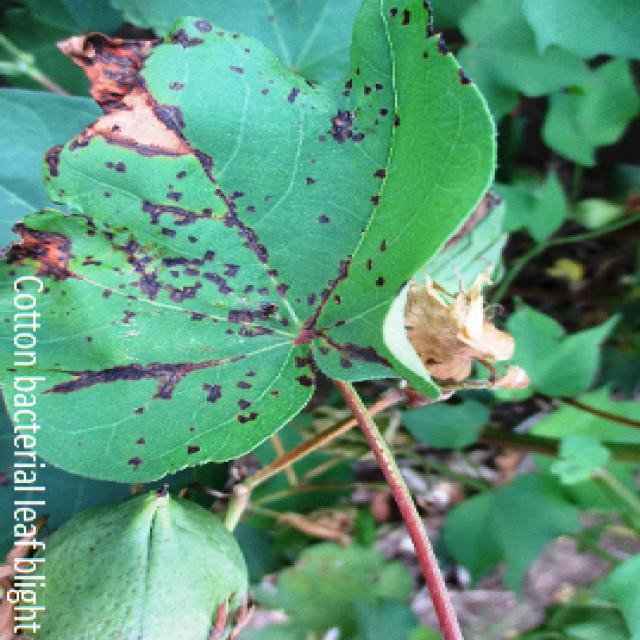Bacterial Blight: (83, 42, 330, 415)
